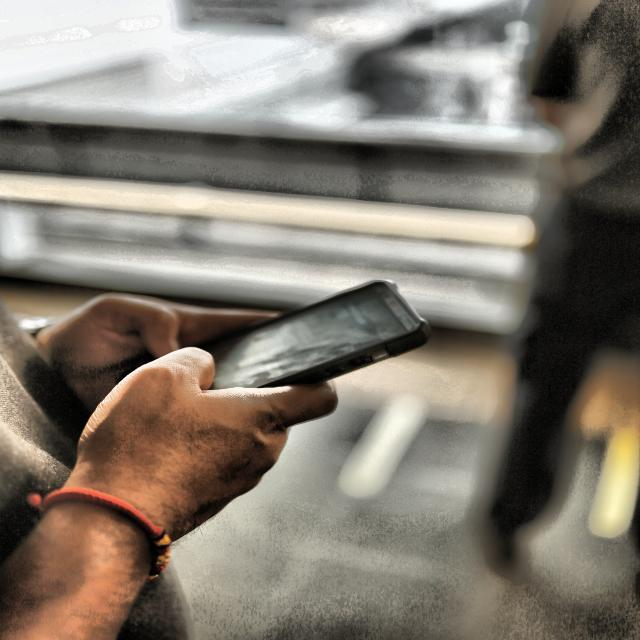Phone: (175, 278, 434, 394)
